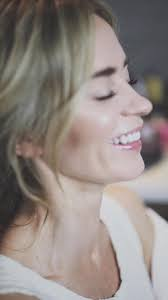n.blunt: (116, 80, 153, 120)
